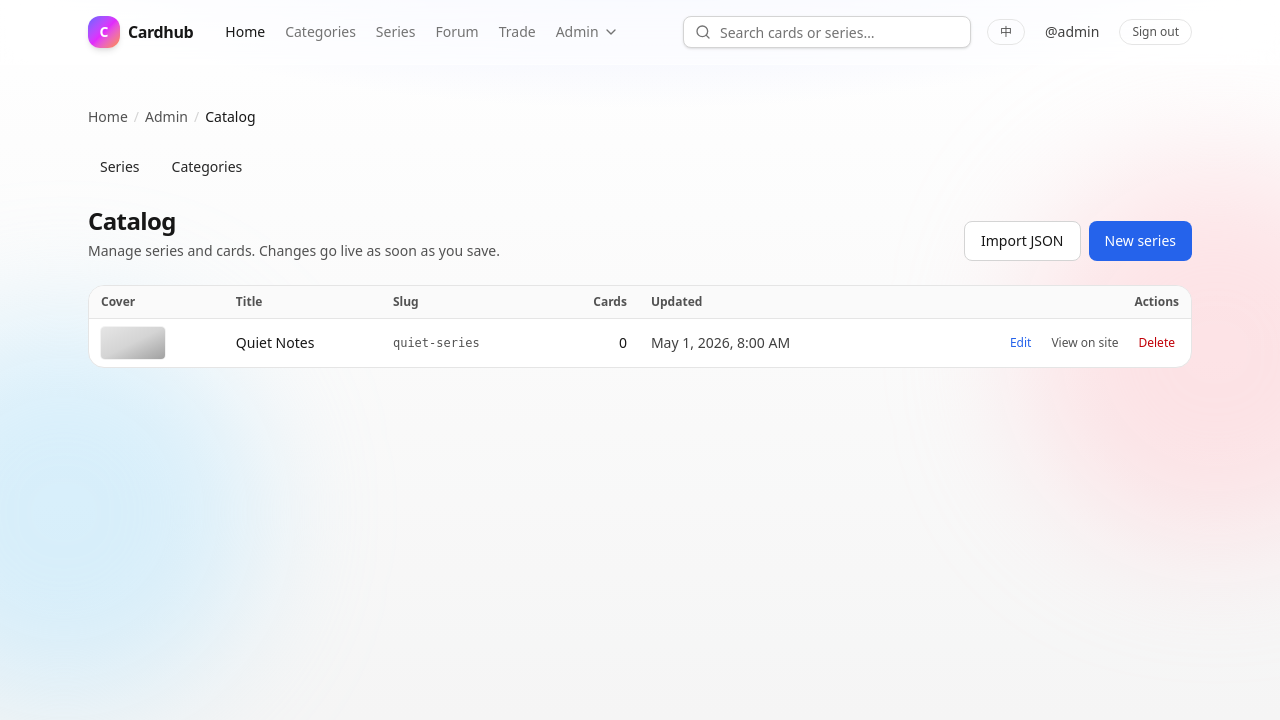
Scenario: CatalogSeriesPage delete › uses series-comment copy in English when there are no cards
Click the button with aria-label "Delete “Quiet Notes”" at (1157, 343), box [1134,331,1179,355]
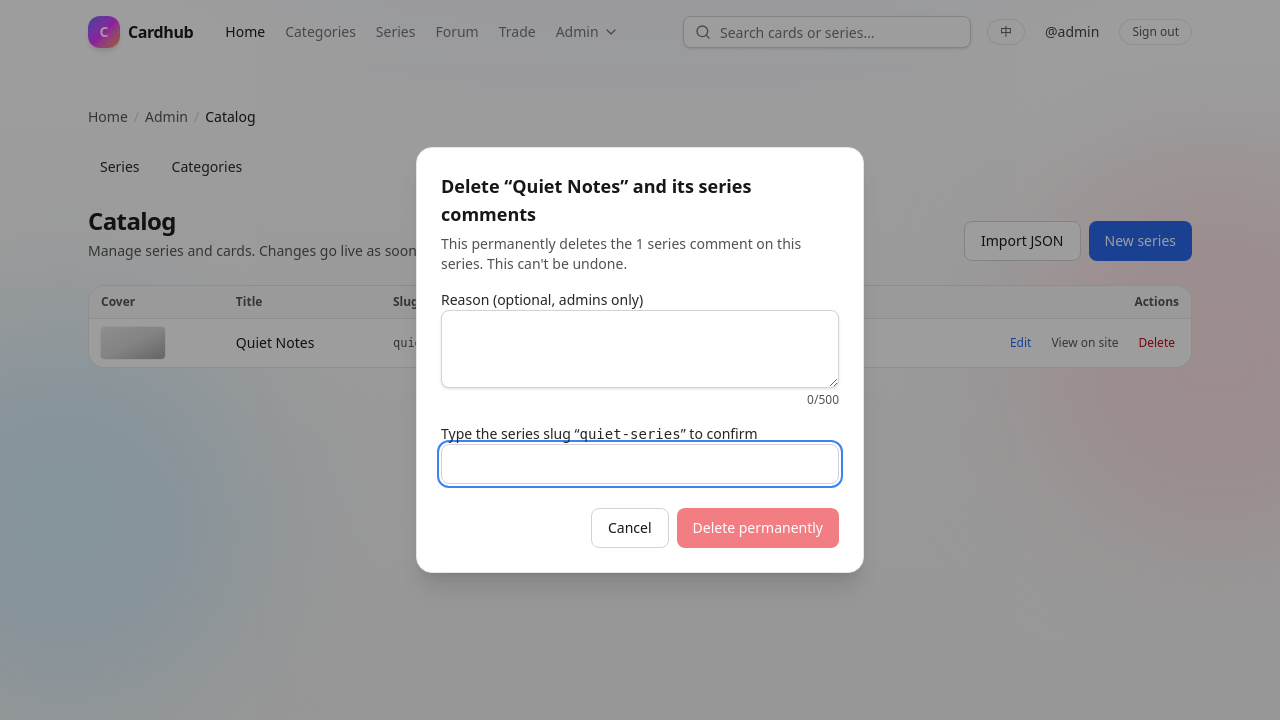
Expected: the dialog does not show "on them", [416,147,864,573]
Result: the dialog shows "Delete “Quiet Notes” and its series comments" at [441,174,751,226]
Result: the dialog shows "1 series comment" at [441,234,801,273]
